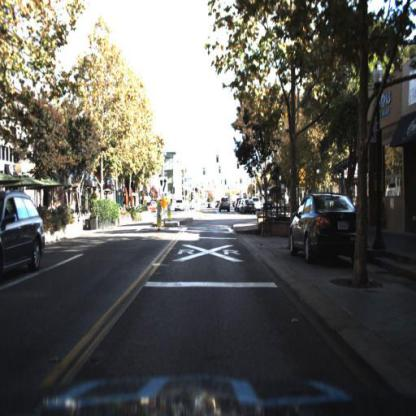car: (287, 192, 364, 258), (1, 190, 47, 282), (220, 198, 232, 214)
